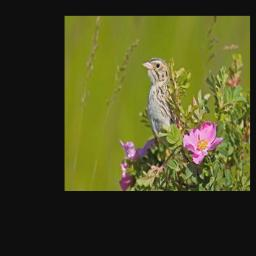Sparrow: (139, 53, 183, 154)
